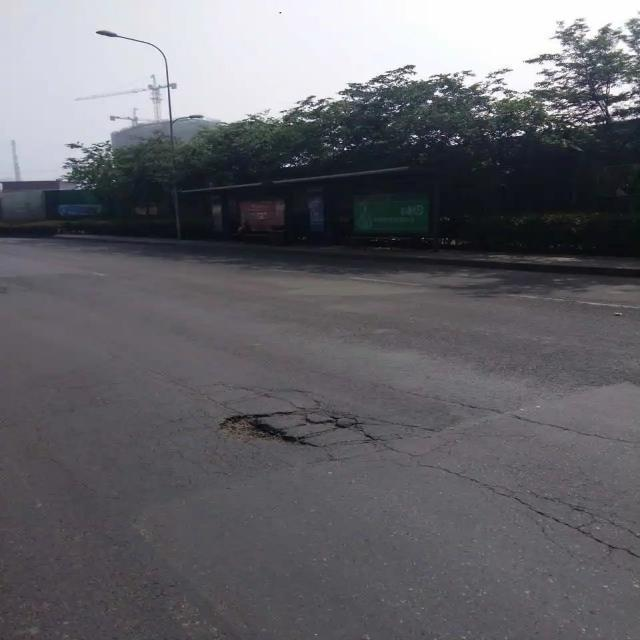pothole: (216, 409, 372, 451)
